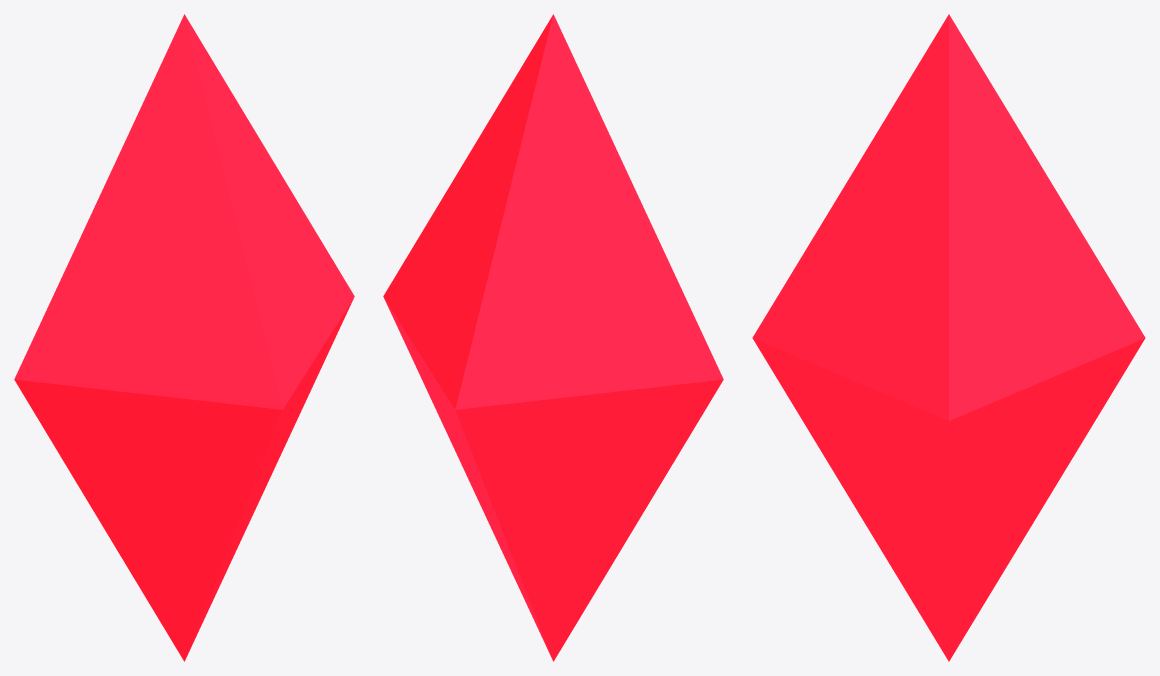
File: gem_red.glb
The picture shows the model from 3 angles, left to right: view 1: azimuth 30°, elevation 25°; view 2: azimuth 150°, elevation 25°; view 3: azimuth 270°, elevation 25°; orthographic projection.
Parts seen in each view (by area): view 1: Crystal; view 2: Crystal; view 3: Crystal.
Boxes of the visible parts, left/top/right/bottom form: Crystal: left=14, top=14, right=354, bottom=661; Crystal: left=383, top=14, right=723, bottom=661; Crystal: left=752, top=14, right=1145, bottom=661.
Bounding box in the file's own units: 0.22 × 0.4 × 0.22.
